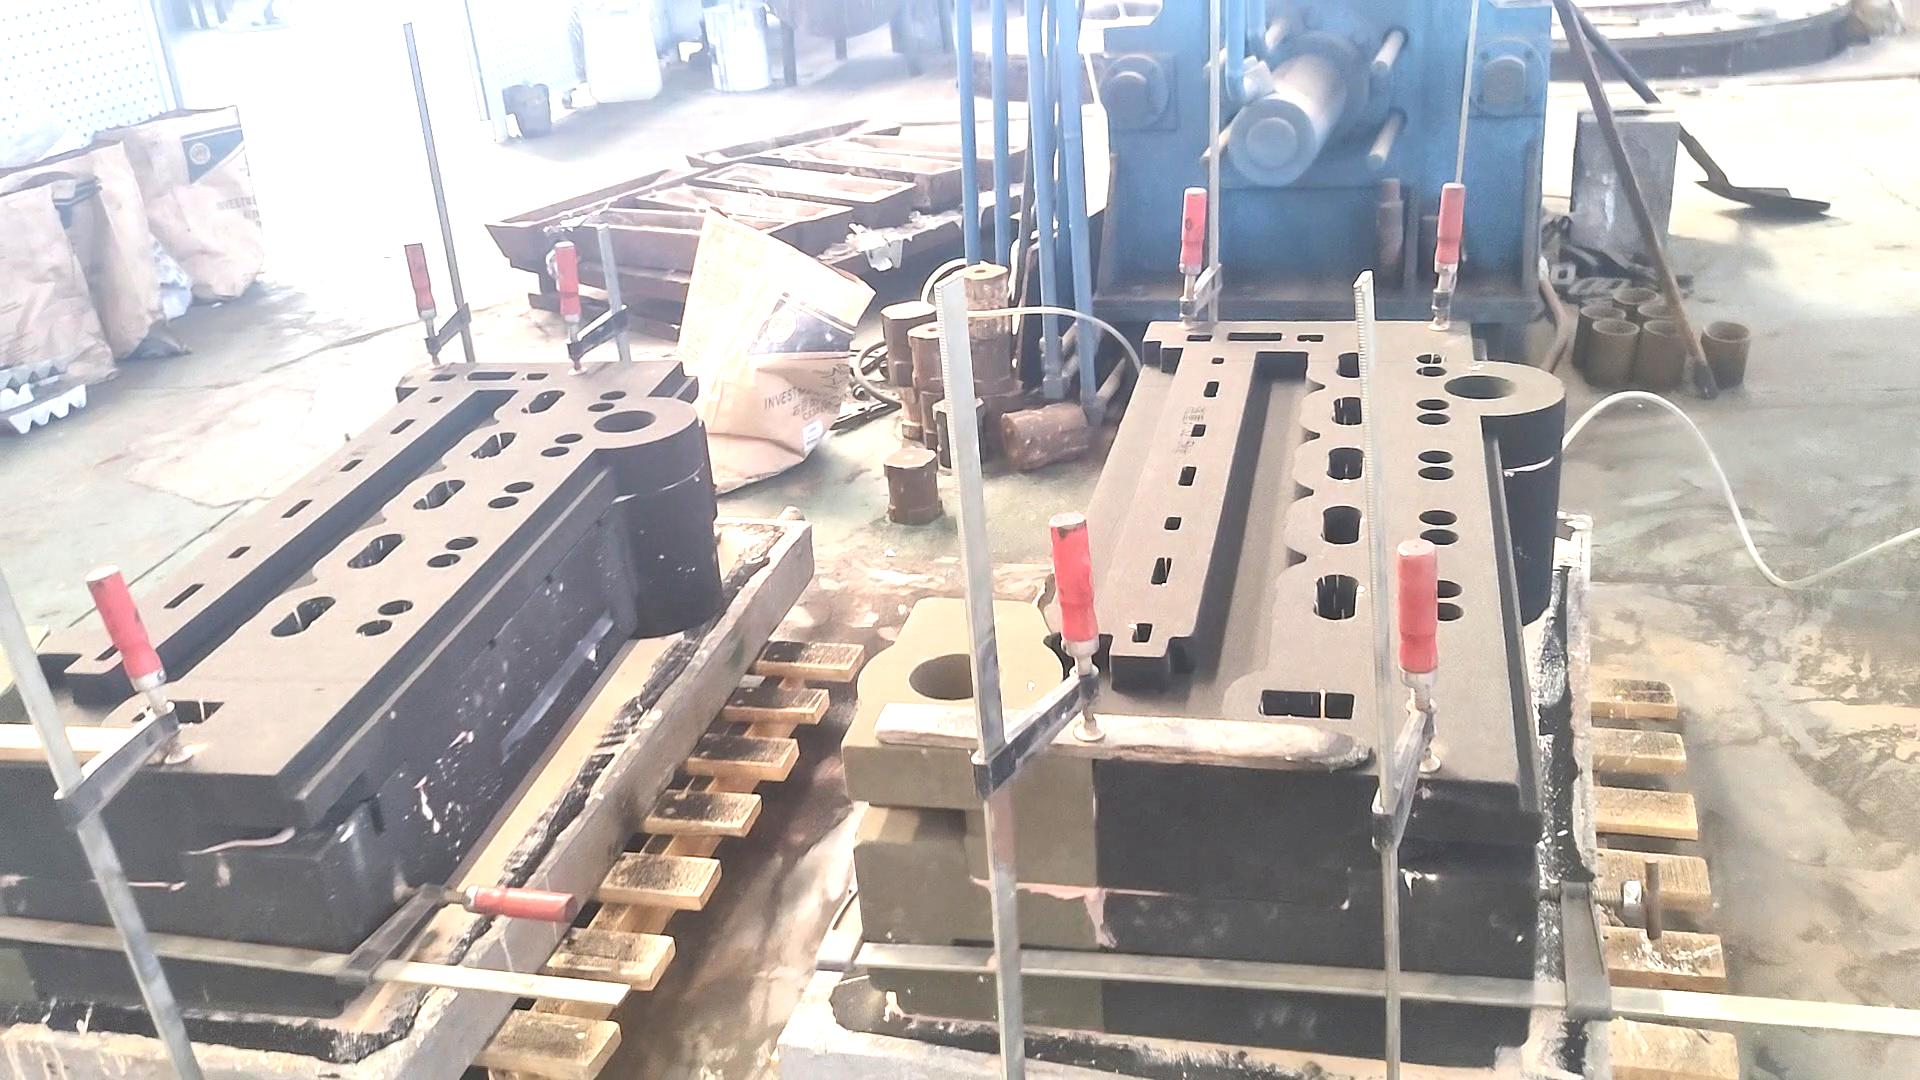pouring hole: (909, 653, 1000, 702), (1444, 375, 1519, 400), (592, 407, 657, 434), (1702, 320, 1750, 342), (1578, 305, 1627, 320), (1644, 320, 1691, 336), (1614, 287, 1659, 303), (1594, 318, 1638, 334), (1636, 305, 1683, 316)
